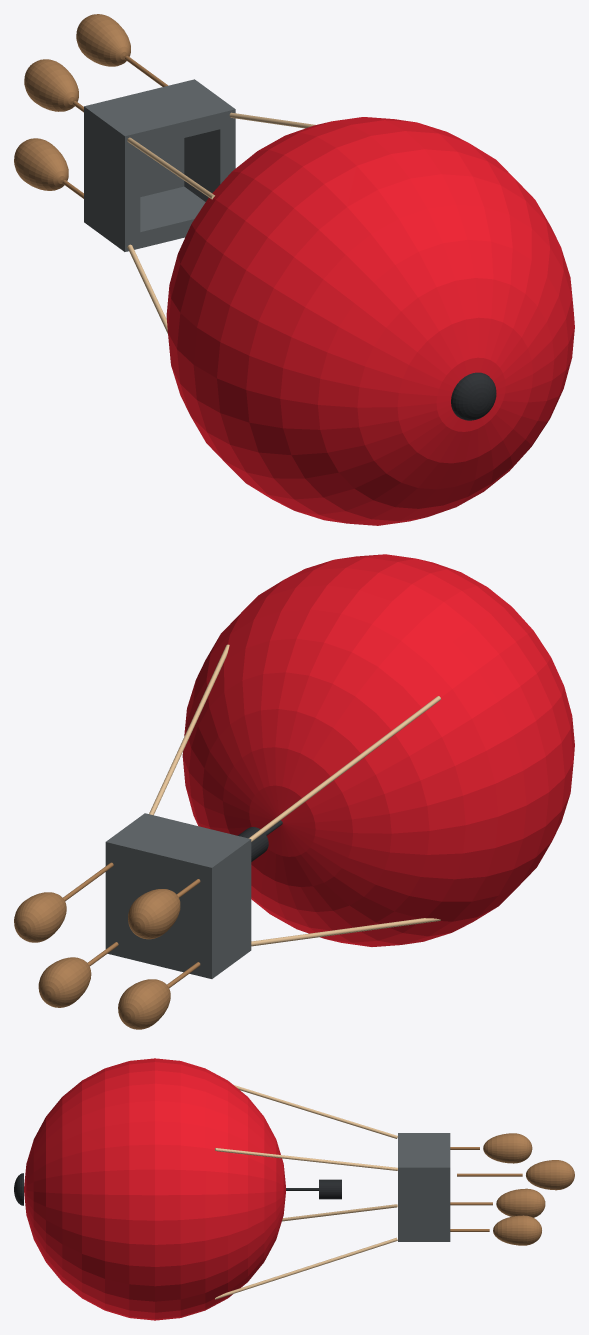
File: tinker.obj
3 renders of one model, top to bottom at view 1: azimuth 30°, elevation 25°; view 2: azimuth 150°, elevation 25°; view 3: azimuth 270°, elevation 25°, orthographic. The views are drawn at different scales.
Parts seen in each view (by area): view 1: group_0_15277357, group_0_6383466, group_0_11107152, group_0_2829873, group_0_14860437; view 2: group_0_15277357, group_0_6383466, group_0_11107152, group_0_14860437; view 3: group_0_15277357, group_0_6383466, group_0_11107152, group_0_14860437, group_0_2829873.
Part boxes in pixels (left/top/right/bottom): group_0_15277357: left=166, top=117, right=574, bottom=525; group_0_6383466: left=84, top=79, right=235, bottom=251; group_0_11107152: left=14, top=14, right=167, bottom=198; group_0_2829873: left=451, top=372, right=496, bottom=420; group_0_14860437: left=127, top=112, right=315, bottom=333; group_0_15277357: left=182, top=554, right=574, bottom=946; group_0_6383466: left=105, top=813, right=251, bottom=978; group_0_11107152: left=14, top=862, right=200, bottom=1029; group_0_14860437: left=149, top=644, right=440, bottom=946; group_0_15277357: left=24, top=1058, right=285, bottom=1320; group_0_6383466: left=398, top=1133, right=450, bottom=1241; group_0_11107152: left=450, top=1133, right=574, bottom=1245; group_0_14860437: left=215, top=1085, right=397, bottom=1299; group_0_2829873: left=14, top=1173, right=341, bottom=1205.
Size of the model in its own units: 80 by 80 by 171.
